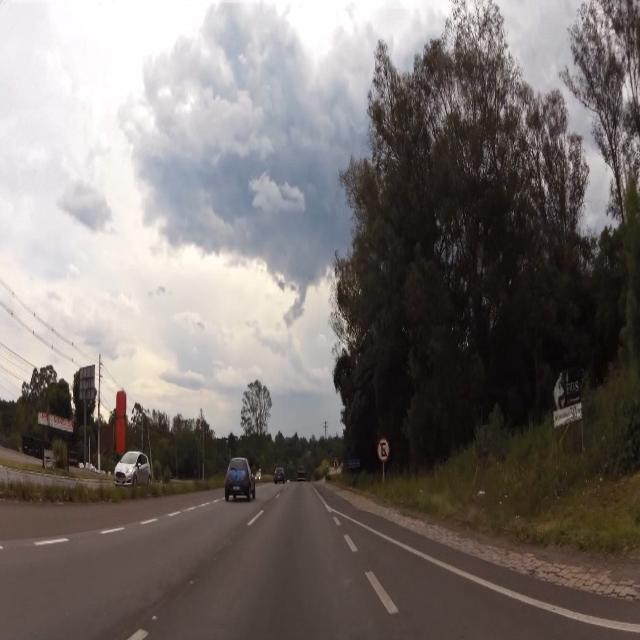R-6a: (378, 438, 390, 462)
